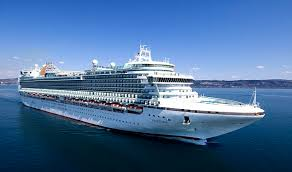tau_dansu: (20, 60, 269, 146)
